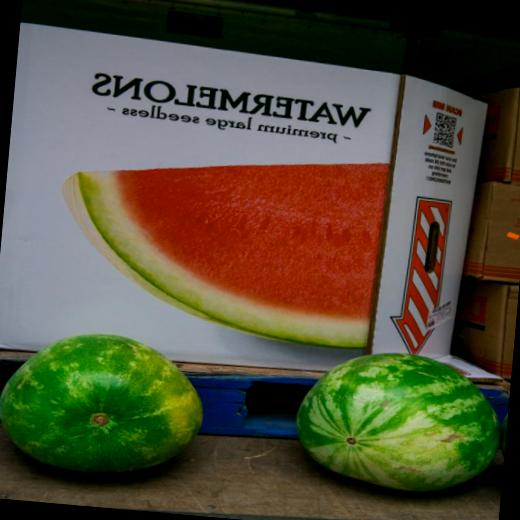Cherry: (50, 132, 390, 350), (289, 343, 506, 499), (0, 324, 209, 482)
